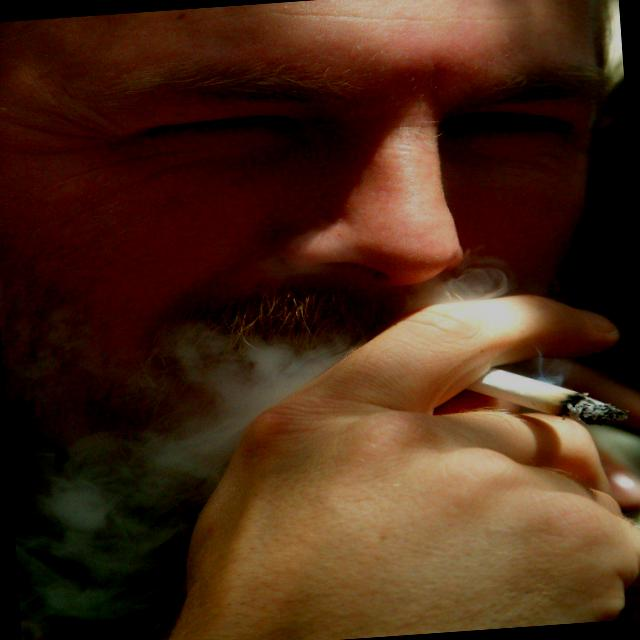smoke: (413, 316, 640, 450)
